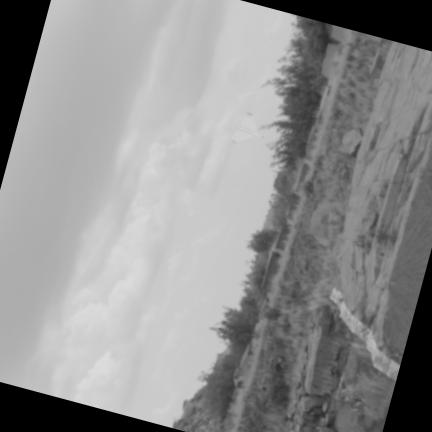Shahed: (230, 112, 263, 142)
